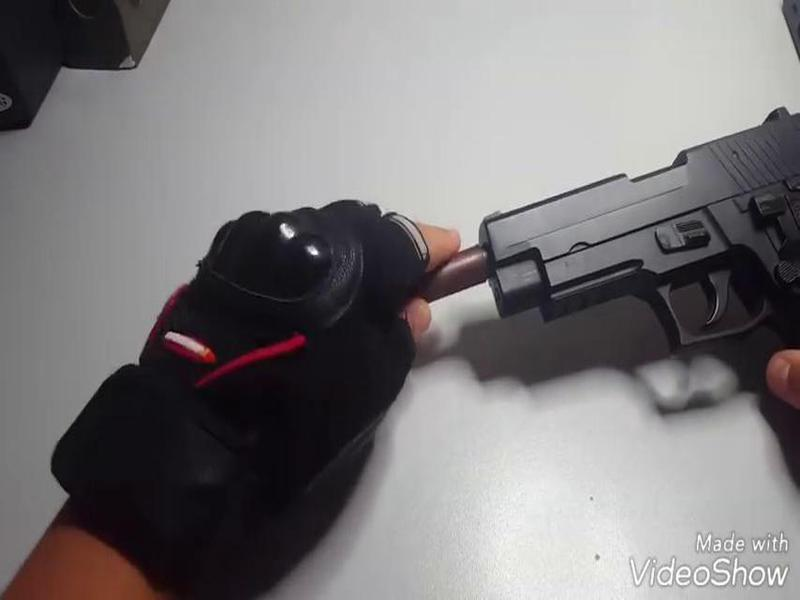Pistola: (472, 98, 800, 374)
